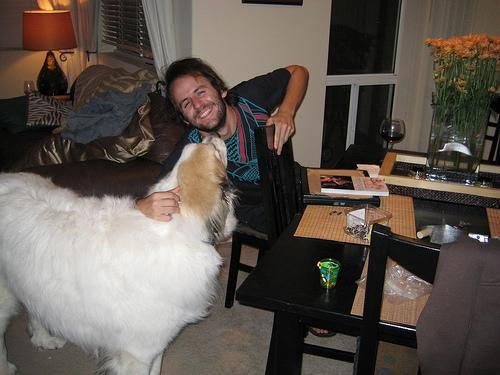Great_Pyrenees: (0, 130, 241, 374)
